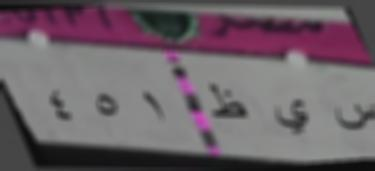1: (139, 86, 168, 126)
4: (49, 88, 74, 125)
5: (92, 89, 124, 126)
Thaa: (206, 81, 248, 125)
seen: (332, 98, 375, 137)
yaa: (268, 93, 314, 141)
